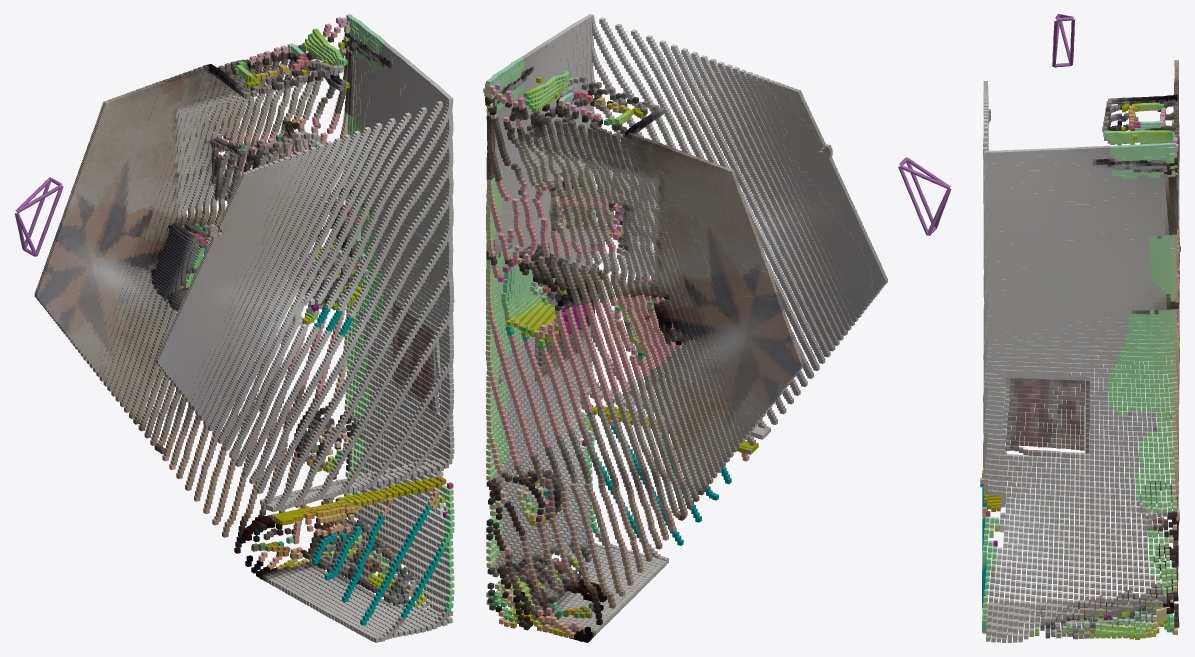
3 views of the same model, side by side, from view 1: azimuth 30°, elevation 25°; view 2: azimuth 150°, elevation 25°; view 3: azimuth 270°, elevation 25° (orthographic). The views are drawn at different scales.
Size of the model in its own units: 4.91 by 6.27 by 2.28.
